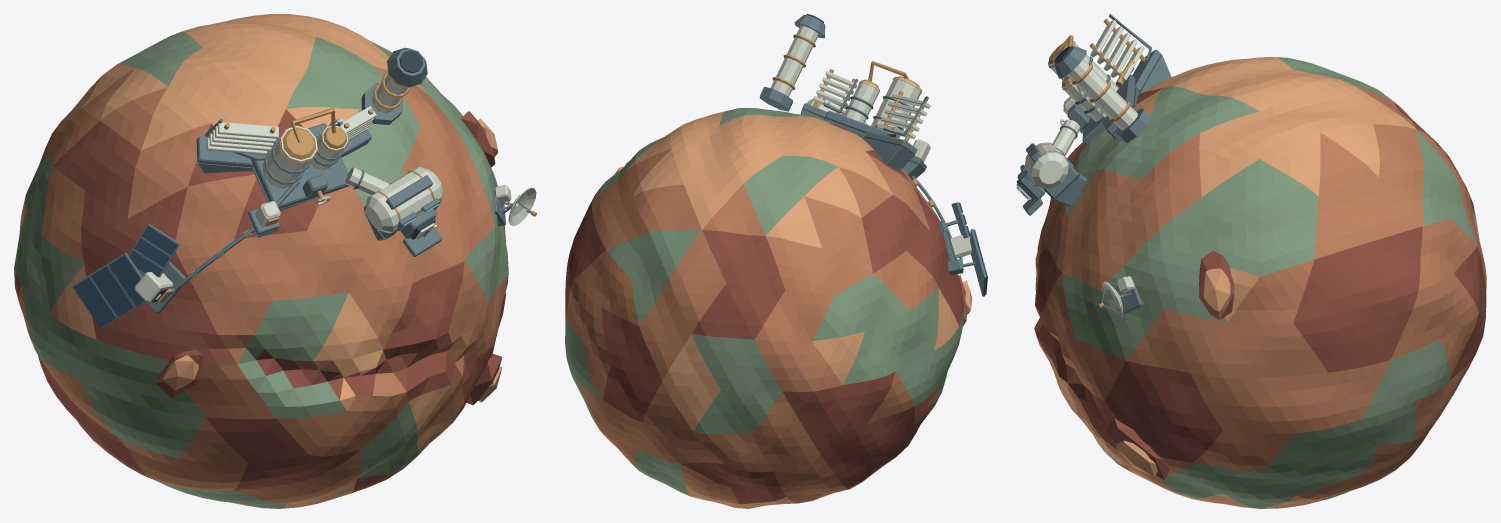
The model's file is Mars.glb.
The picture shows the model from 3 angles, left to right: view 1: azimuth 30°, elevation 25°; view 2: azimuth 150°, elevation 25°; view 3: azimuth 270°, elevation 25°; orthographic projection. The views are drawn at different scales.
Parts seen in each view (by area): view 1: S6_Mars • modeled surfaces; view 2: S6_Mars • modeled surfaces; view 3: S6_Mars • modeled surfaces.
Boxes of the visible parts, x1=… form: S6_Mars • modeled surfaces: x1=14, y1=14, x2=536, y2=508; S6_Mars • modeled surfaces: x1=565, y1=14, x2=987, y2=508; S6_Mars • modeled surfaces: x1=1016, y1=14, x2=1486, y2=508.
Bounding box in the file's own units: 1.73 × 1.87 × 1.72.
